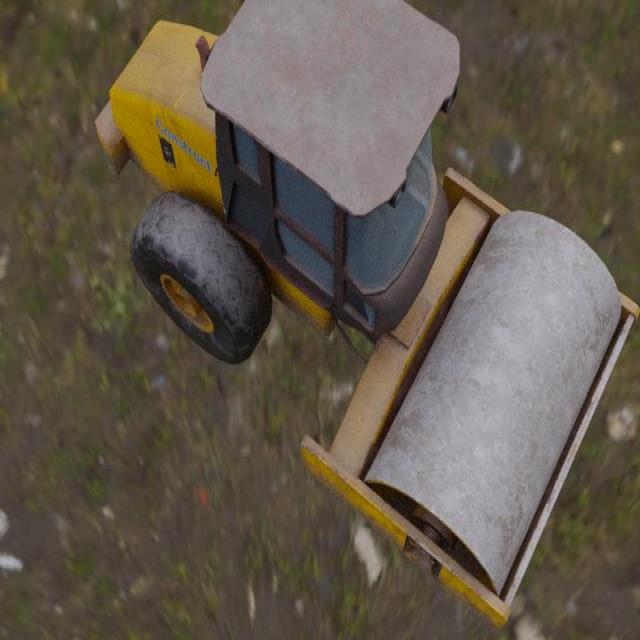Roller: (94, 0, 640, 632)
